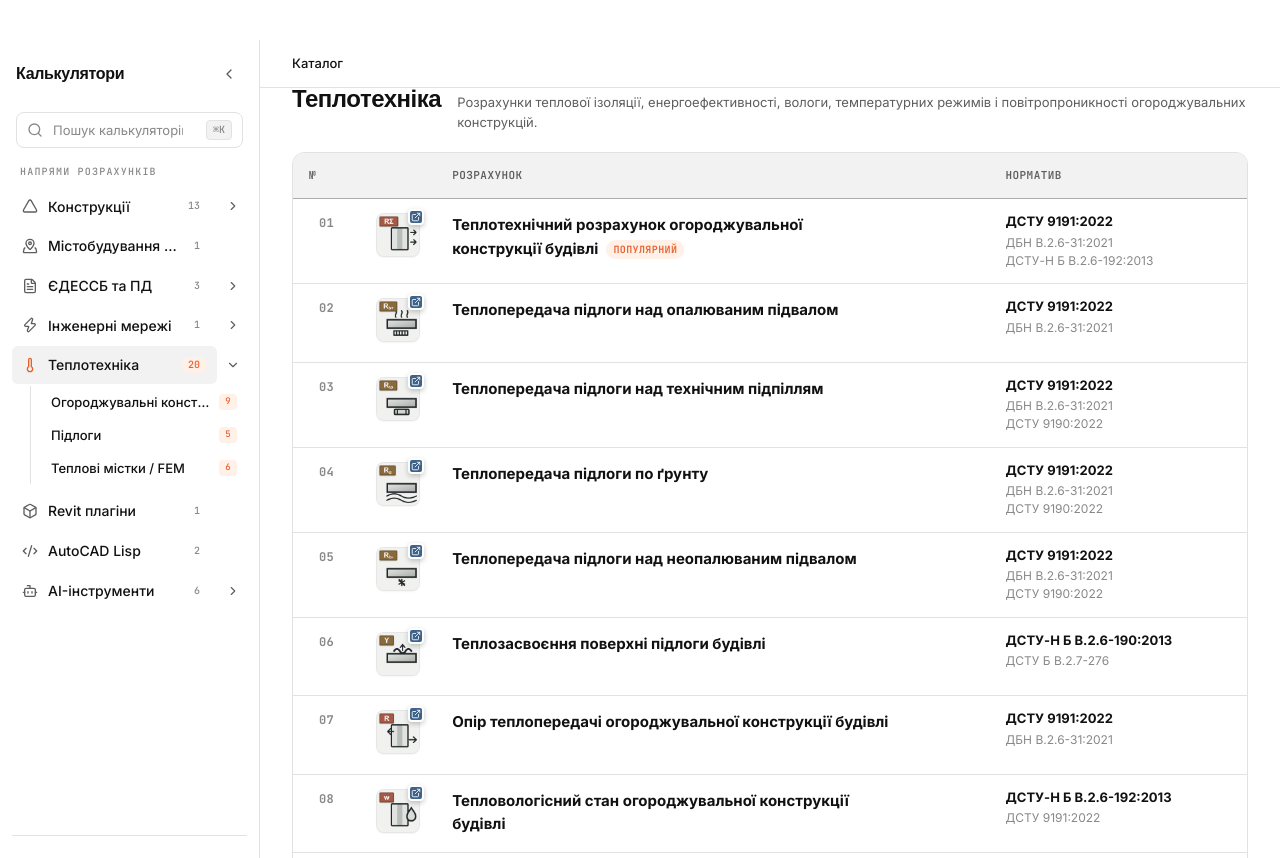
Scenario: CalculatorShell › switches the homepage table to leaf-only calculators when a subcategory is selected
The width and height of the screenshot is (1280, 858).
Click the link "Підлоги 5": (76, 435) [51, 427, 237, 443]
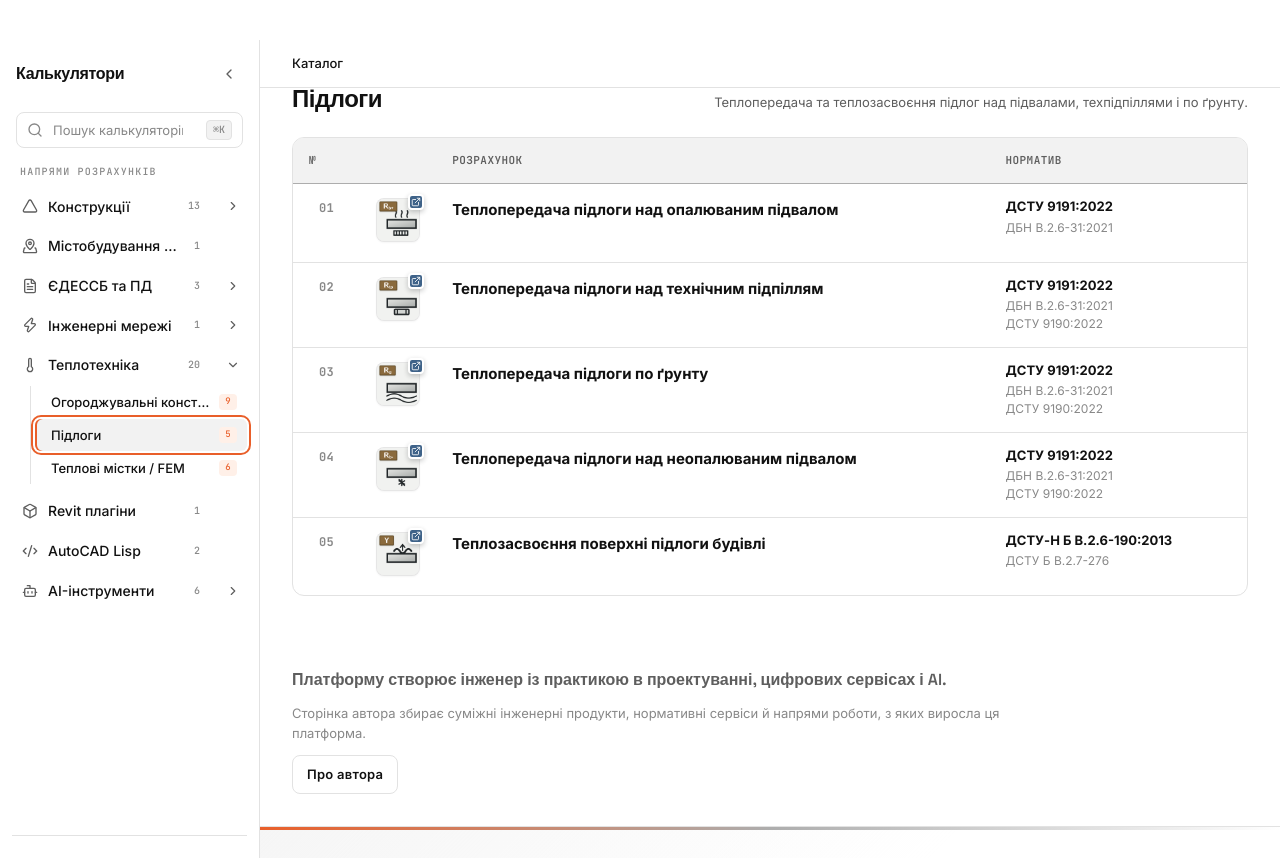
Expected: the row "Теплопередача підлоги по ґрунту" is shown, [293, 347, 1247, 432]
Result: the heading "Підлоги" is shown at [292, 80, 382, 117]
Result: the link "Опір теплопередачі огороджувальної конструкції" is gone
